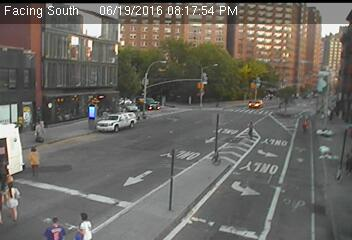neg: (142, 90, 172, 131), (202, 85, 227, 120), (238, 63, 262, 94), (72, 127, 94, 157)
pos: (21, 146, 45, 178), (74, 212, 94, 239)
